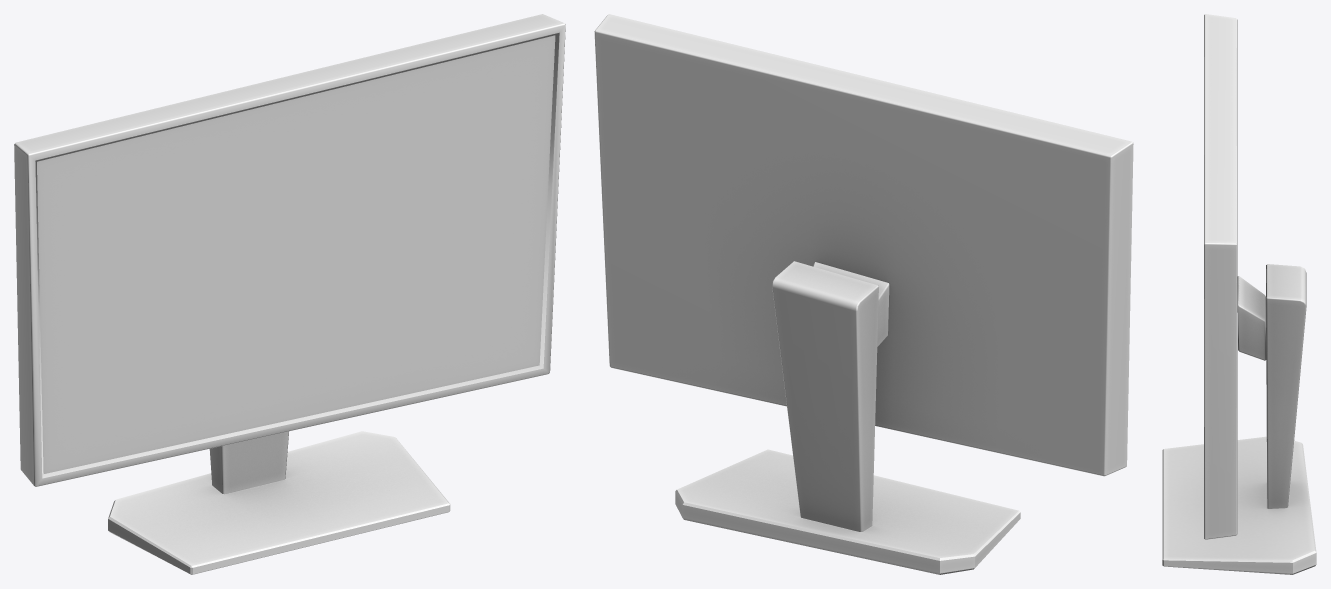
Rendered from ComputerScreen.fbx.
The picture shows the model from 3 angles, left to right: view 1: azimuth 30°, elevation 25°; view 2: azimuth 150°, elevation 25°; view 3: azimuth 270°, elevation 25°; orthographic projection. The views are drawn at different scales.
Parts seen in each view (by area): view 1: ComputerScreen; view 2: ComputerScreen; view 3: ComputerScreen.
Part boxes in pixels (<box>): ComputerScreen: <box>14,14,565,574</box>; ComputerScreen: <box>594,14,1133,574</box>; ComputerScreen: <box>1162,14,1316,574</box>.
Size of the model in its own units: 71.11 by 55.27 by 20.14.
